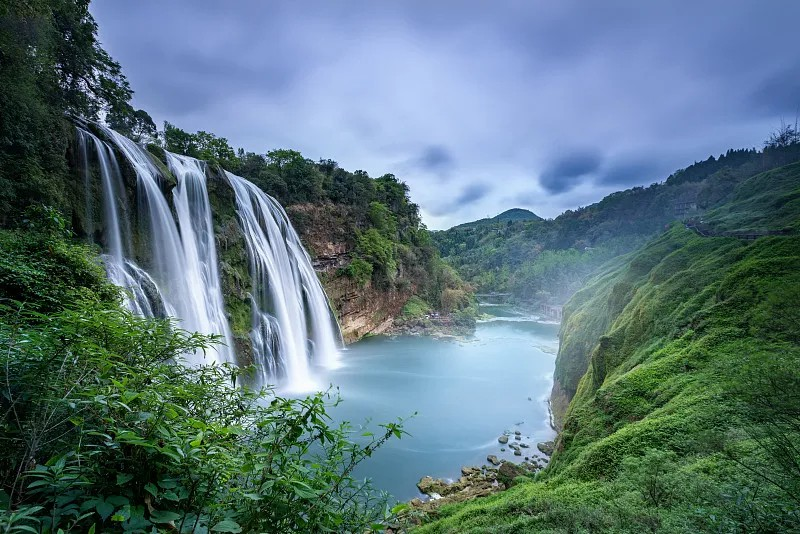Huangguoshu: (69, 113, 346, 394)
